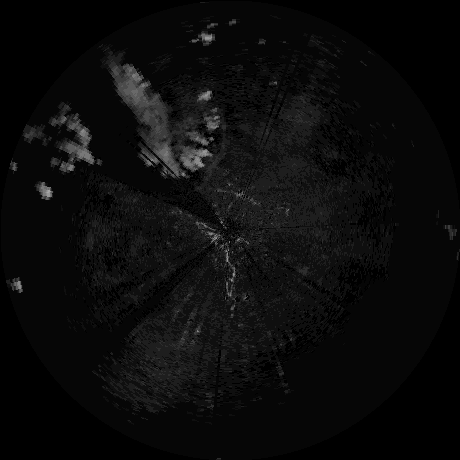frontgust: (201, 125, 229, 182)
